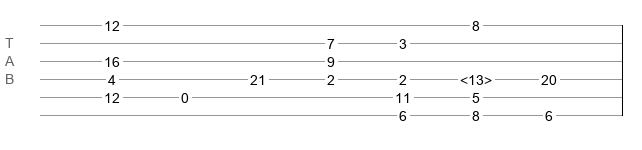0: (181, 90, 189, 100)
11: (395, 90, 411, 100)
12: (104, 18, 120, 28), (104, 90, 120, 100)
16: (104, 54, 120, 64)
2: (327, 72, 335, 82), (399, 72, 407, 82)
20: (541, 72, 557, 82)
21: (250, 72, 266, 82)
3: (399, 36, 407, 46)
4: (108, 72, 116, 82)
5: (472, 90, 480, 100)
6: (399, 108, 407, 118), (545, 108, 553, 118)
7: (327, 36, 335, 46)
8: (472, 108, 480, 118), (472, 18, 480, 28)
9: (327, 54, 335, 64)
harmonic: (460, 72, 492, 82)
